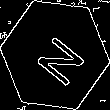N_NW: (25, 24, 85, 86)
